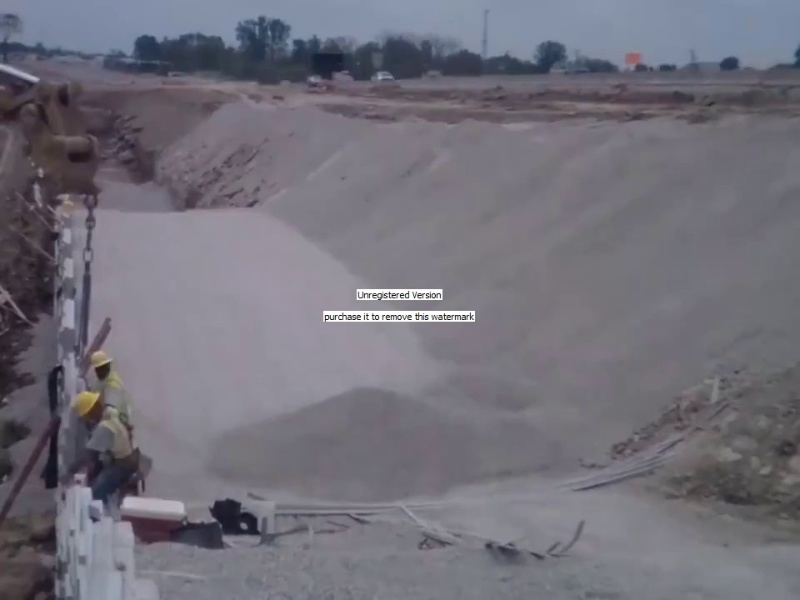hardhat: (71, 392, 100, 422), (90, 351, 114, 372)
person: (65, 389, 140, 505), (87, 351, 133, 435)
wall: (52, 192, 150, 600)
